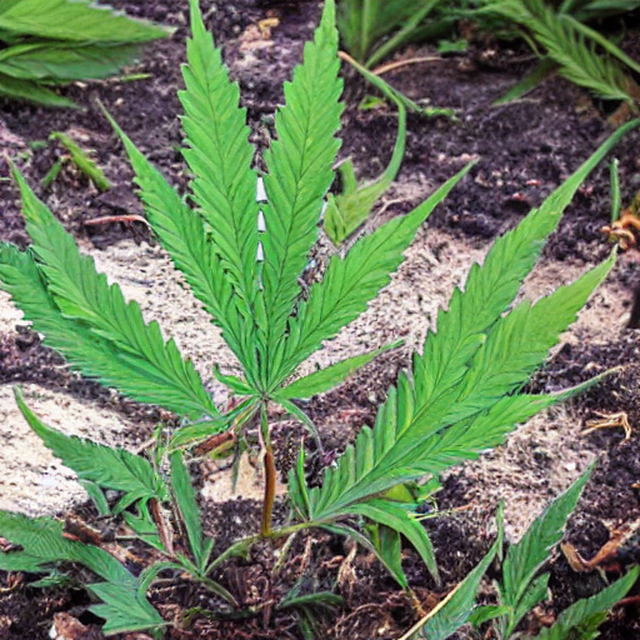Marijuana Plant: (0, 0, 551, 456)
